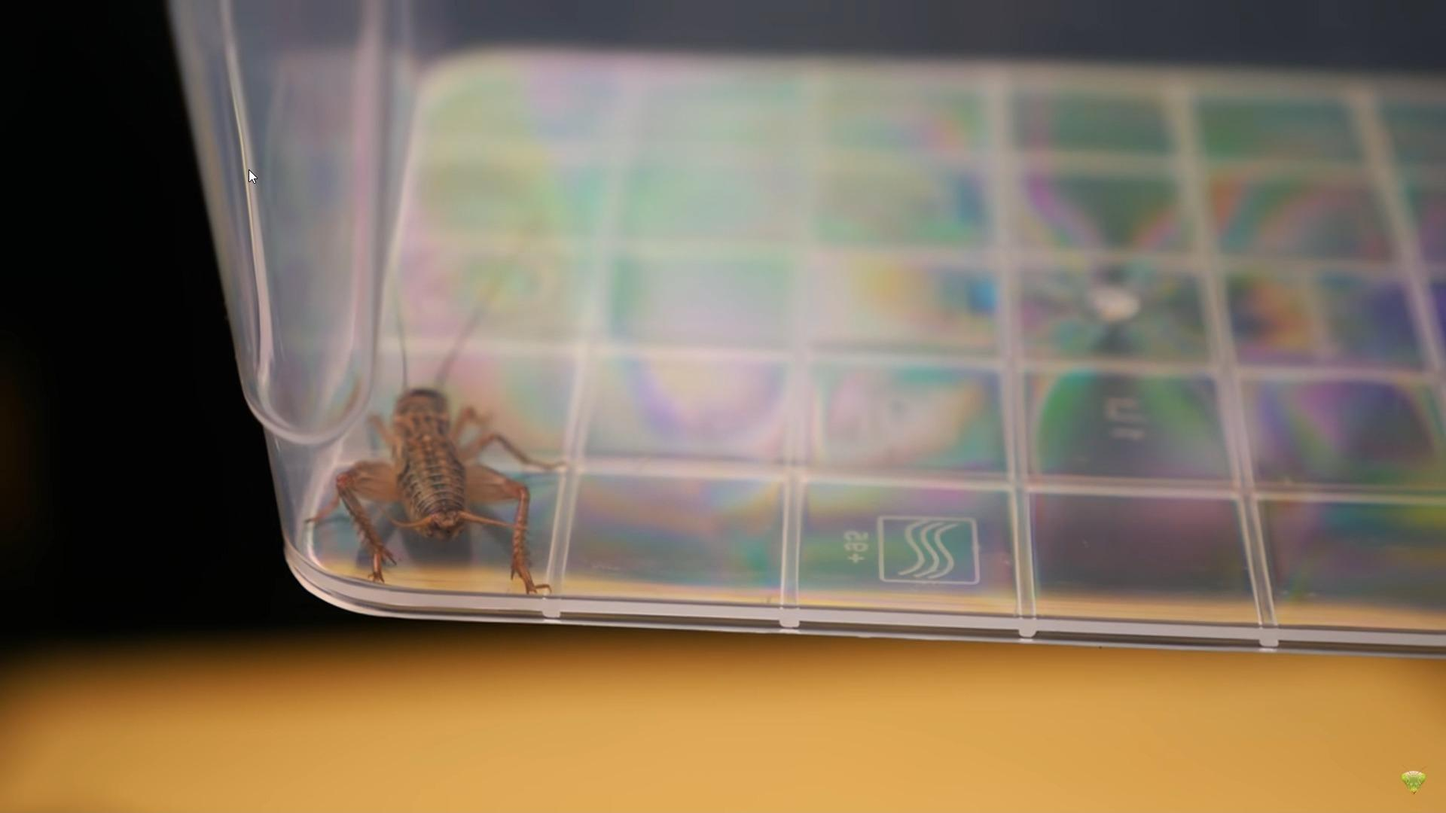cockroach: (310, 365, 548, 596)
